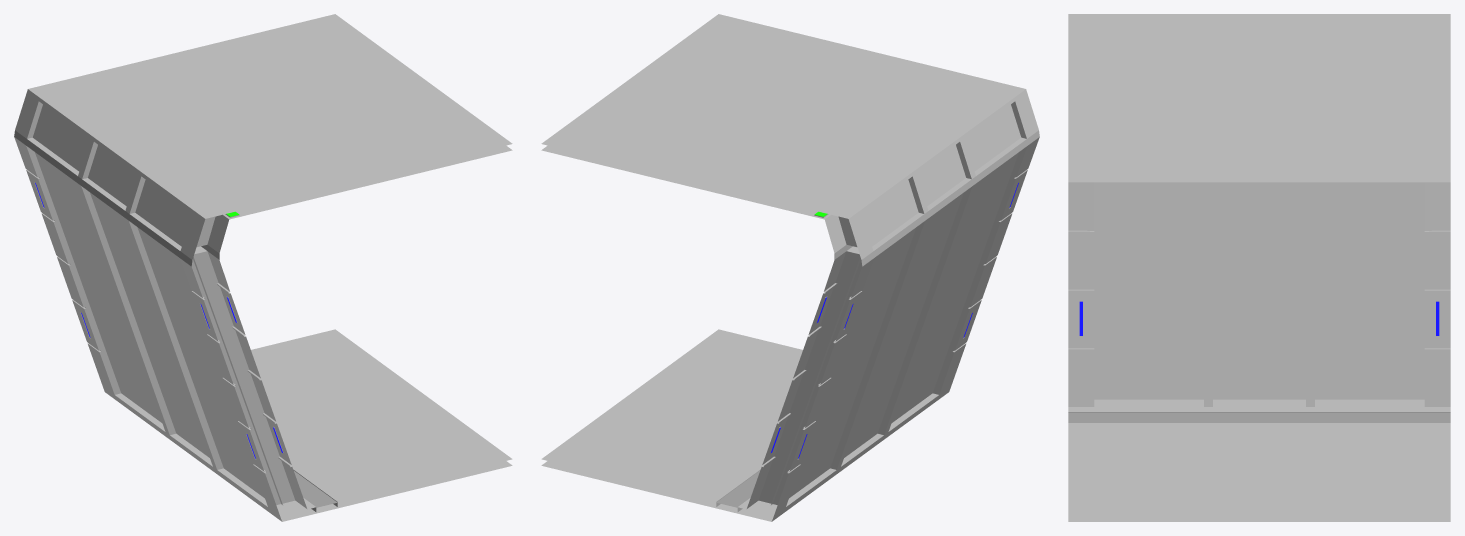
File: Wall_30.FBX
3 views of the same model, side by side, from view 1: azimuth 30°, elevation 25°; view 2: azimuth 150°, elevation 25°; view 3: azimuth 270°, elevation 25° (orthographic). The views are drawn at different scales.
Visible parts, largest first — view 1: Wall_30_LOD0; view 2: Wall_30_LOD0; view 3: Wall_30_LOD0.
Boxes of the visible parts, box(x1,y1,x2,y2) form: Wall_30_LOD0: box(14, 14, 512, 521); Wall_30_LOD0: box(541, 14, 1039, 521); Wall_30_LOD0: box(1068, 14, 1450, 521).
Size of what is drawn, in the model's own units: 188 by 180 by 180.
